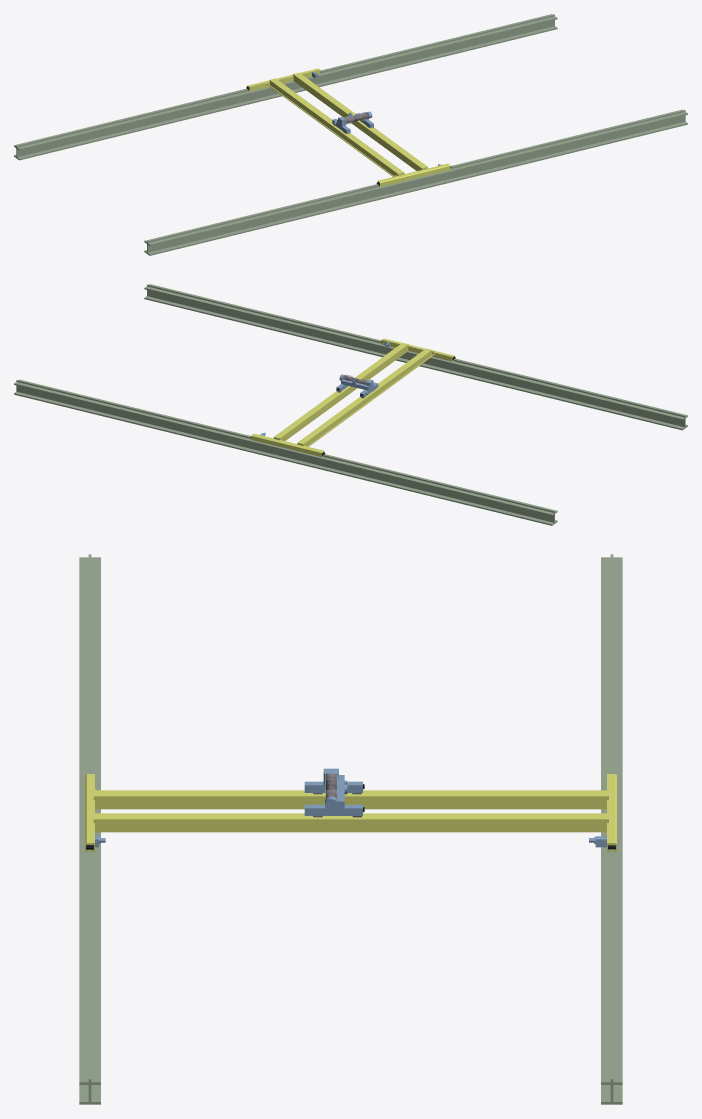
File: PuenteGrua.fbx
3 views of the same model, one above another, from view 1: azimuth 30°, elevation 25°; view 2: azimuth 150°, elevation 25°; view 3: azimuth 270°, elevation 25° (orthographic). The views are drawn at different scales.
Visible parts, largest first — view 1: pCube52, pCube132, pCube45, pCube6, pCube2; view 2: pCube132, pCube52, pCube45, pCube6, pCube53; view 3: pCube52, pCube132, pCube45, pCube6.
Boxes of the visible parts, box(x1,y1,x2,y2) form: pCube52: box(144, 109, 687, 255); pCube132: box(14, 14, 557, 160); pCube45: box(293, 72, 427, 170); pCube6: box(269, 78, 404, 176); pCube2: box(377, 163, 450, 186); pCube132: box(14, 379, 557, 525); pCube52: box(144, 284, 687, 430); pCube45: box(273, 342, 408, 440); pCube6: box(297, 348, 432, 446); pCube53: box(251, 433, 324, 456); pCube52: box(79, 554, 100, 1104); pCube132: box(601, 554, 622, 1104); pCube45: box(93, 813, 608, 832); pCube6: box(93, 790, 608, 809).
Bounding box in the file's own units: 8217 × 426 × 3595.
